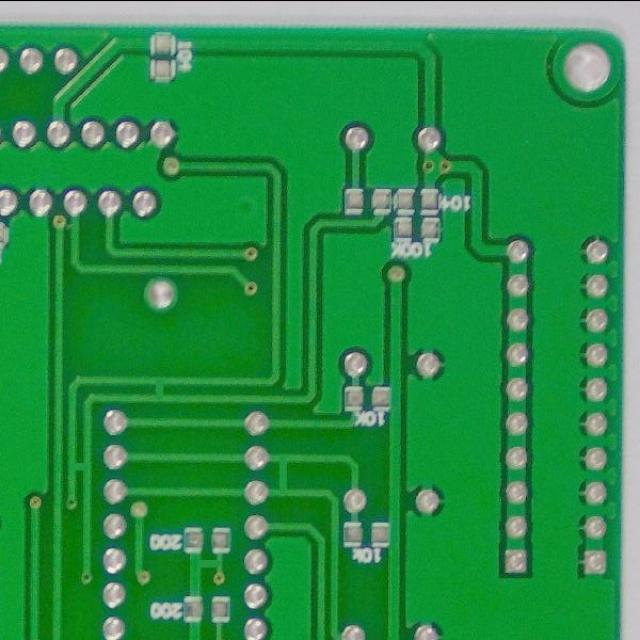short: (270, 444, 300, 502), (184, 546, 226, 578), (146, 370, 175, 405), (65, 454, 95, 484)
